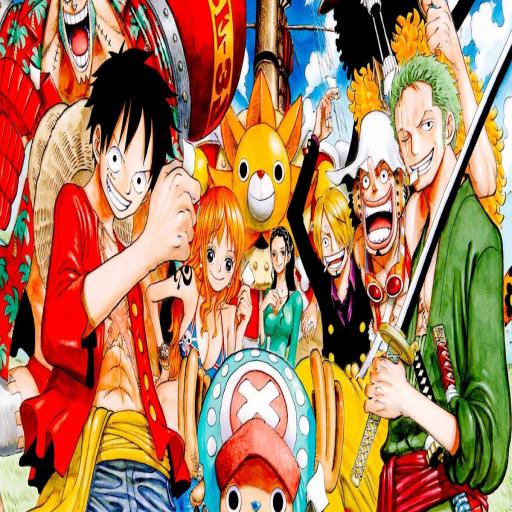Luffy: (32, 67, 185, 512)
Nami: (188, 146, 253, 374)
NicoRobin: (258, 221, 302, 365)
Usopp: (338, 90, 424, 364)
Zoro: (383, 43, 507, 512)
sanji: (290, 106, 369, 374)
